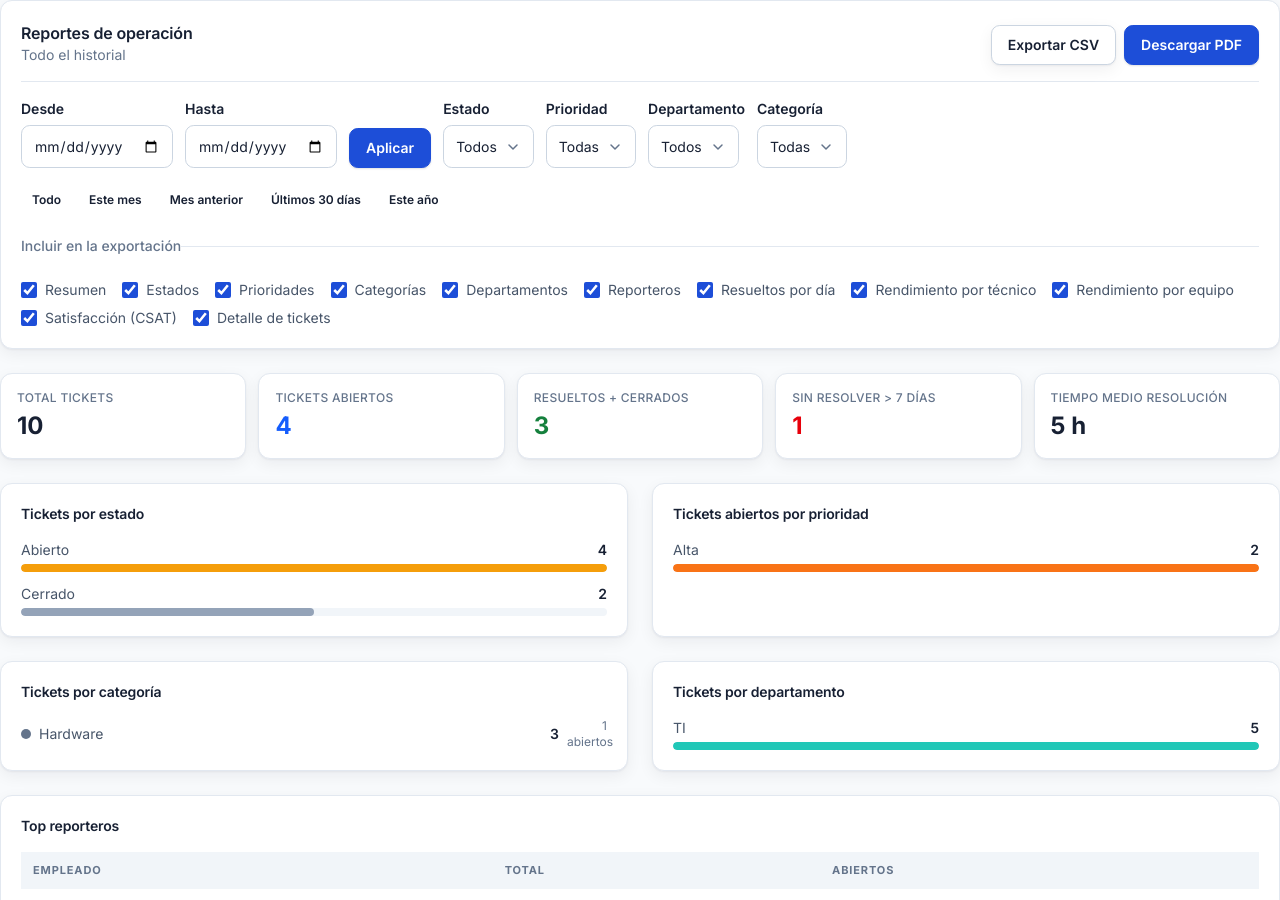
Test: Reports › muestra un aviso persistente cuando el navegador bloquea el PDF
Expected: the text "Total tickets" is shown, [17, 390, 114, 405]
Click the button "Descargar PDF" at (1192, 45), box [1124, 25, 1259, 65]
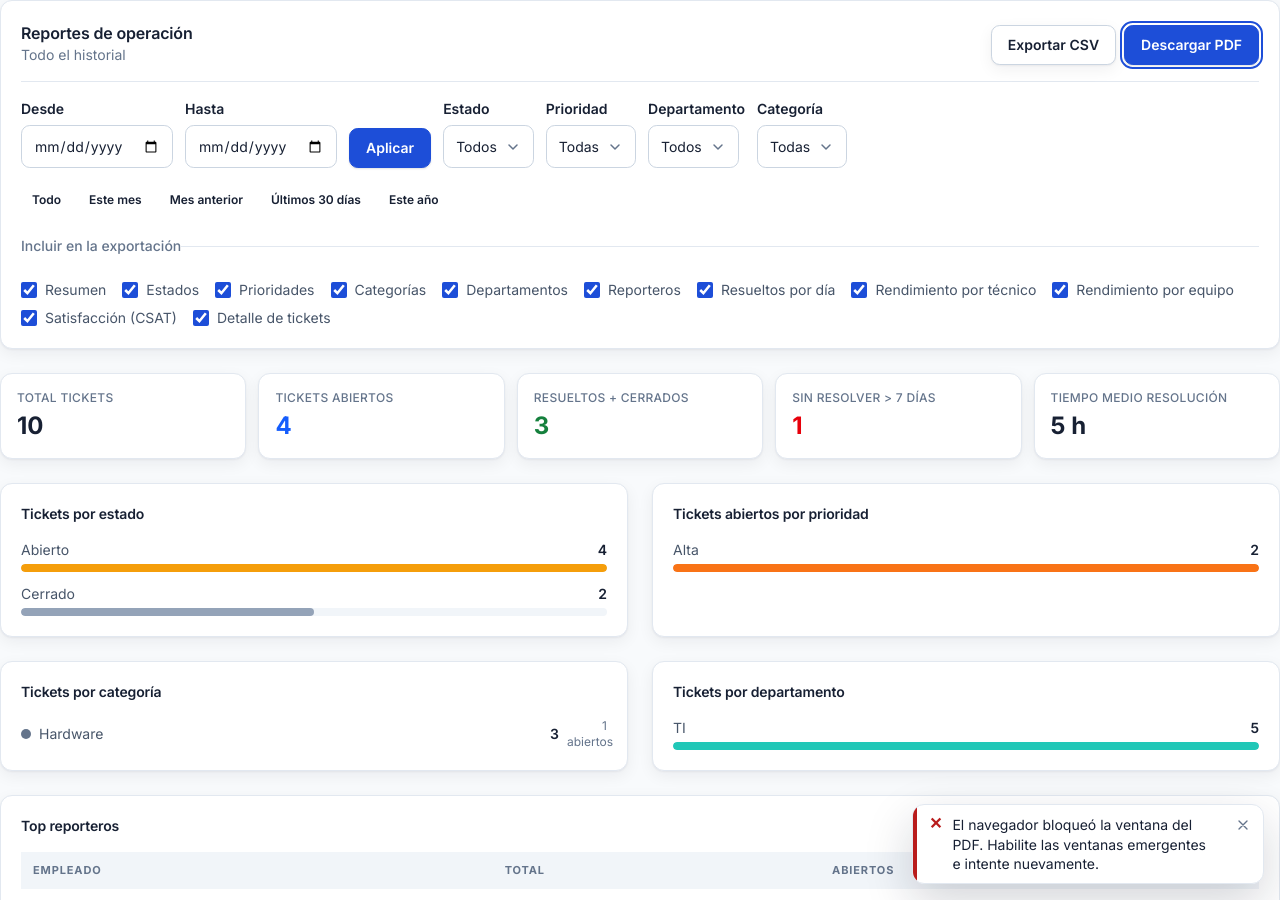
Now the message shows "El navegador bloqueó la ventana del PDF. Habilite las ventanas emergentes e intente nuevamente.", box [952, 816, 1206, 872]
Click the button named "Cerrar notificación" at (1243, 825), box [1229, 811, 1257, 839]
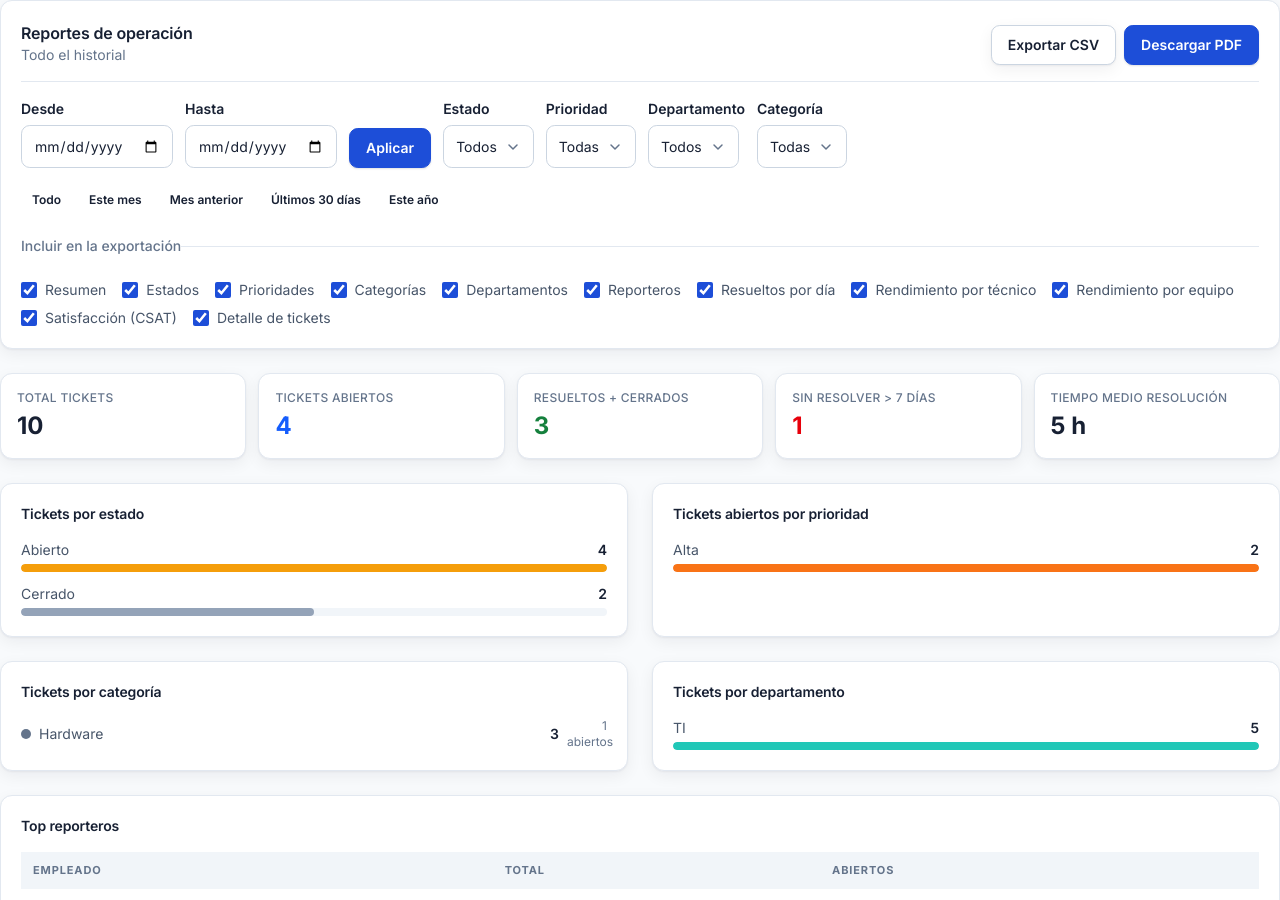
Now the text "bloqueó la ventana del PDF" is gone
